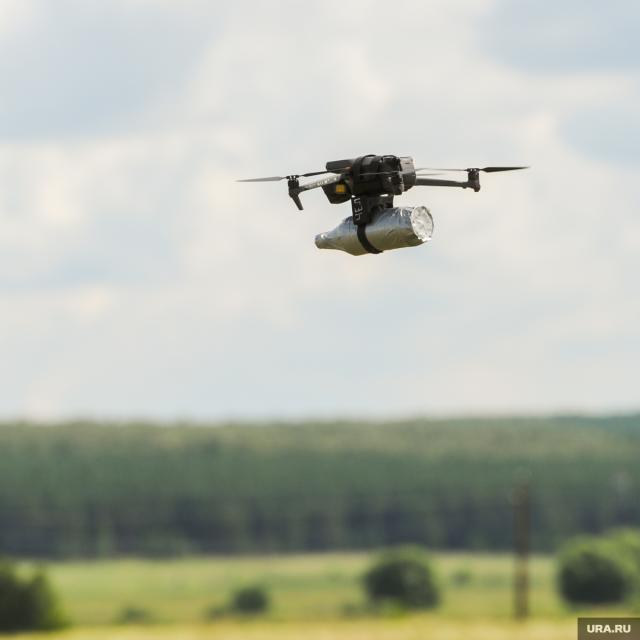drone: (230, 147, 532, 266)
